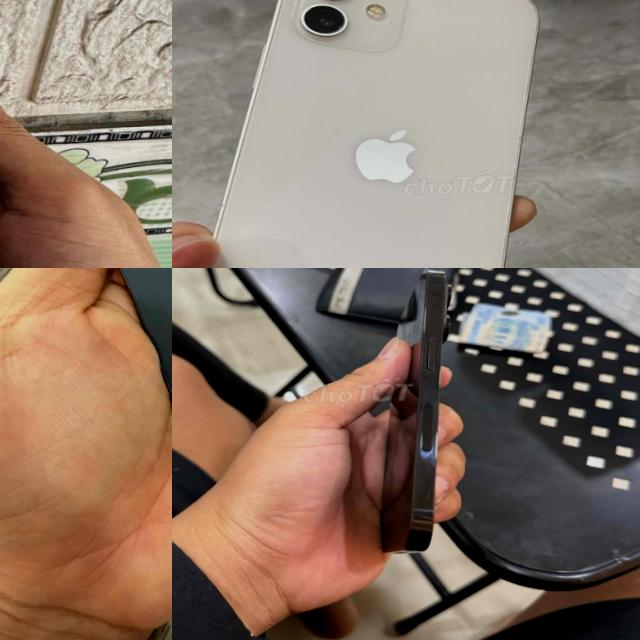gen_12_13: (174, 0, 554, 268)
gen_14: (370, 268, 452, 564)
gen_15: (49, 268, 172, 561)
